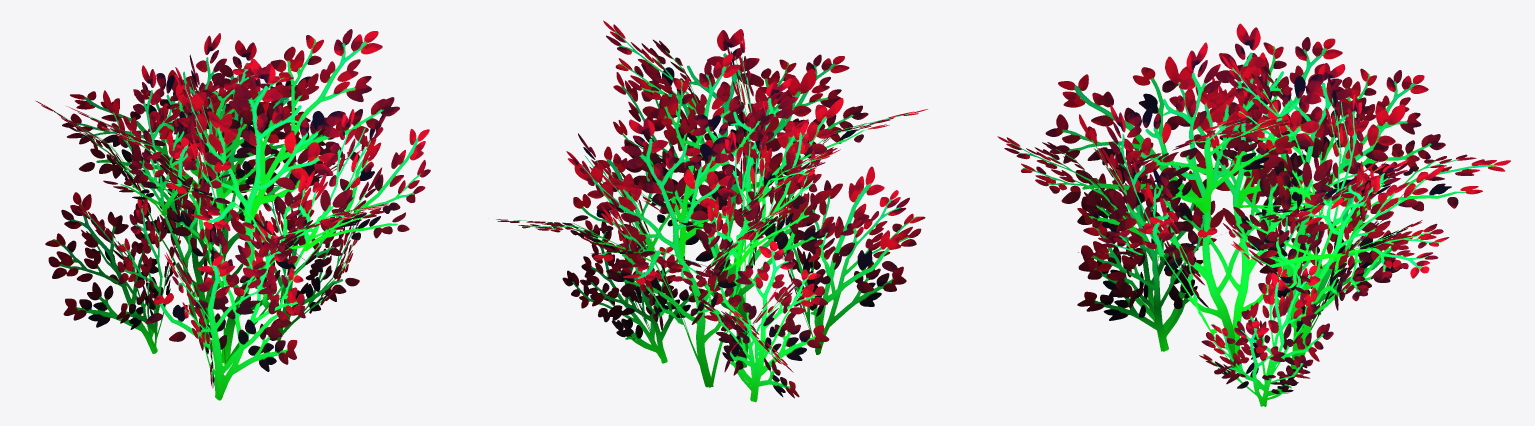
Rendered from SM_Bush_B_03.fbx.
The picture shows the model from 3 angles, left to right: view 1: azimuth 30°, elevation 25°; view 2: azimuth 150°, elevation 25°; view 3: azimuth 270°, elevation 25°; orthographic projection. The views are drawn at different scales.
Visible parts, largest first — view 1: SM_Bush_B_03_LOD0; view 2: SM_Bush_B_03_LOD0; view 3: SM_Bush_B_03_LOD0.
Boxes of the visible parts, box(x1,y1,x2,y2) form: SM_Bush_B_03_LOD0: box(35, 29, 430, 400); SM_Bush_B_03_LOD0: box(496, 20, 927, 402); SM_Bush_B_03_LOD0: box(997, 23, 1510, 406).
Bounding box in the file's own units: 165 × 165 × 223.
